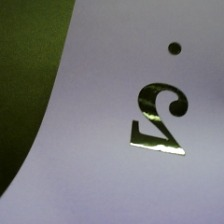violet2: (126, 39, 202, 161)
